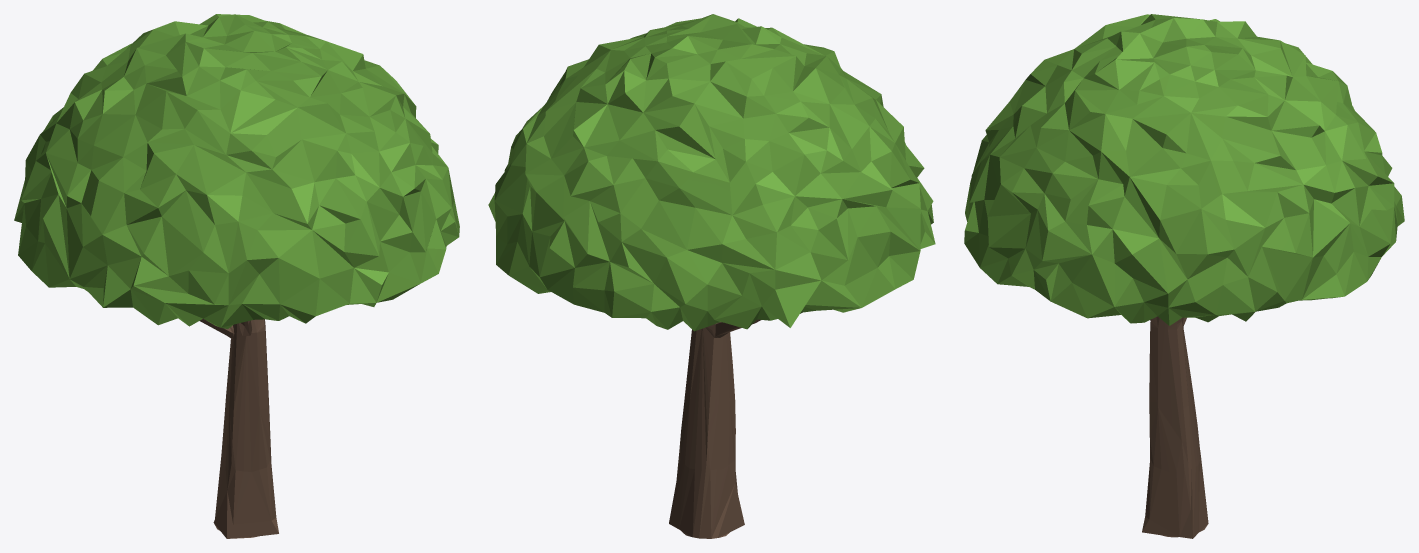
The model's file is tree3.glb.
The picture shows the model from 3 angles, left to right: view 1: azimuth 30°, elevation 25°; view 2: azimuth 150°, elevation 25°; view 3: azimuth 270°, elevation 25°; orthographic projection.
Parts seen in each view (by area): view 1: tree_00105; view 2: tree_00105; view 3: tree_00105.
Part boxes in pixels (x1,y1,x2,y2): tree_00105: (14,14,459,538); tree_00105: (488,14,935,538); tree_00105: (964,14,1404,538).
Size of the model in its own units: 2.35 by 2.84 by 2.33.
